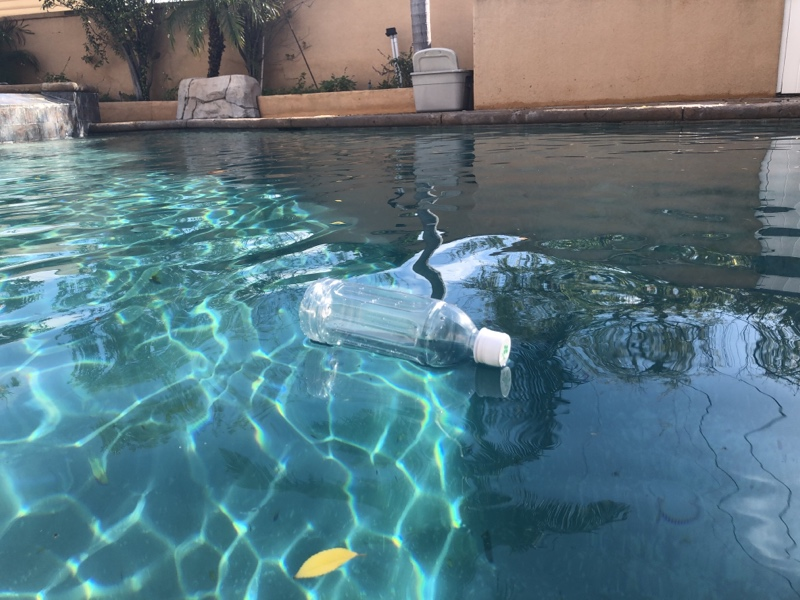Plastic Bottle: (298, 274, 516, 370)
